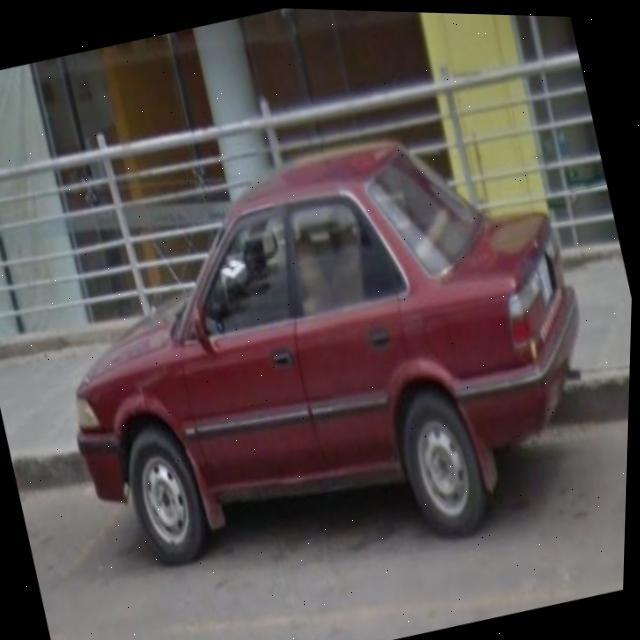vehicle: (24, 101, 631, 622)
